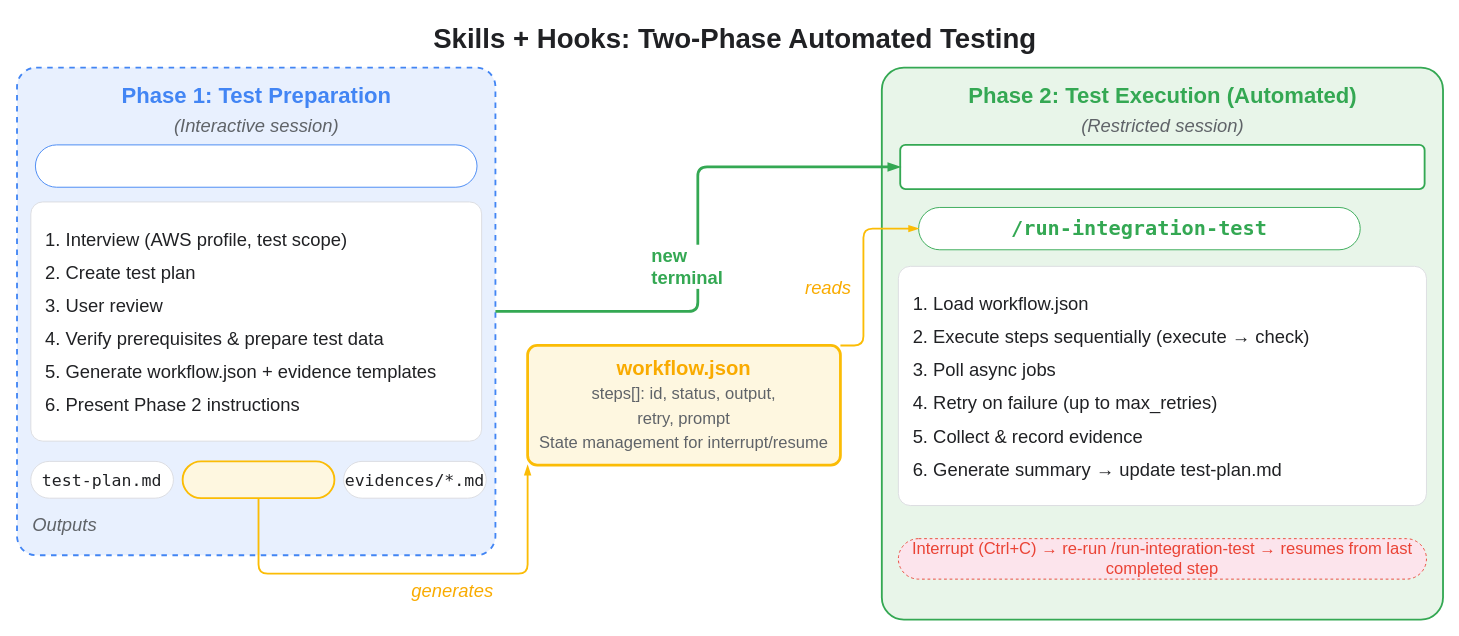
Some shapes in this 1459 by 636 pixel diagram are drawn without their labels. The shapes that lost their labels are listed below. From the top down, each one's centre as x and y in pixels, then its label:
At [255,165]: "/prepare-integration-test".
At [1162,167]: "CLAUDE_STRICT_HOOKS=1 claude --dangerously-skip-permissions".
At [258,479]: "workflow.json".
